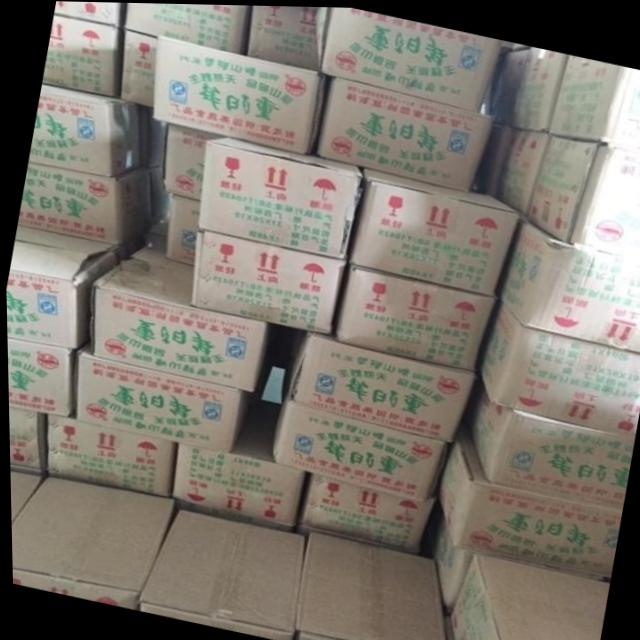box: (435, 415, 619, 578), (89, 244, 278, 391), (338, 163, 521, 298), (137, 497, 305, 640), (459, 370, 631, 509), (472, 293, 640, 432), (9, 473, 174, 609), (9, 475, 174, 610), (280, 325, 472, 440), (308, 75, 490, 191), (151, 34, 324, 155), (71, 351, 268, 455), (497, 208, 640, 351), (312, 6, 505, 111), (197, 137, 360, 259), (266, 395, 447, 499), (330, 259, 494, 367), (292, 524, 442, 640), (167, 402, 304, 526), (188, 227, 341, 333), (5, 224, 130, 350), (528, 130, 640, 257), (446, 551, 605, 640), (28, 83, 152, 174), (17, 163, 153, 244), (295, 469, 431, 549), (40, 414, 172, 494), (547, 54, 640, 146), (123, 2, 250, 54), (42, 15, 120, 99), (424, 484, 471, 613), (6, 337, 74, 417), (492, 123, 550, 210), (247, 4, 319, 71), (509, 45, 566, 126), (165, 124, 224, 202), (486, 43, 527, 123), (116, 31, 156, 106), (164, 190, 199, 266), (7, 408, 42, 473), (54, 1, 121, 26)
